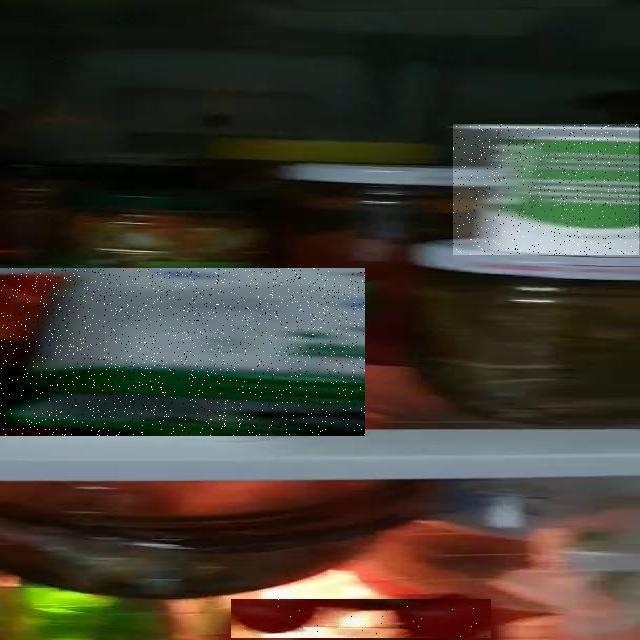Cheese: (0, 268, 365, 436)
Tomato Paste: (231, 599, 491, 638)
Yoghurt: (453, 124, 639, 255)
